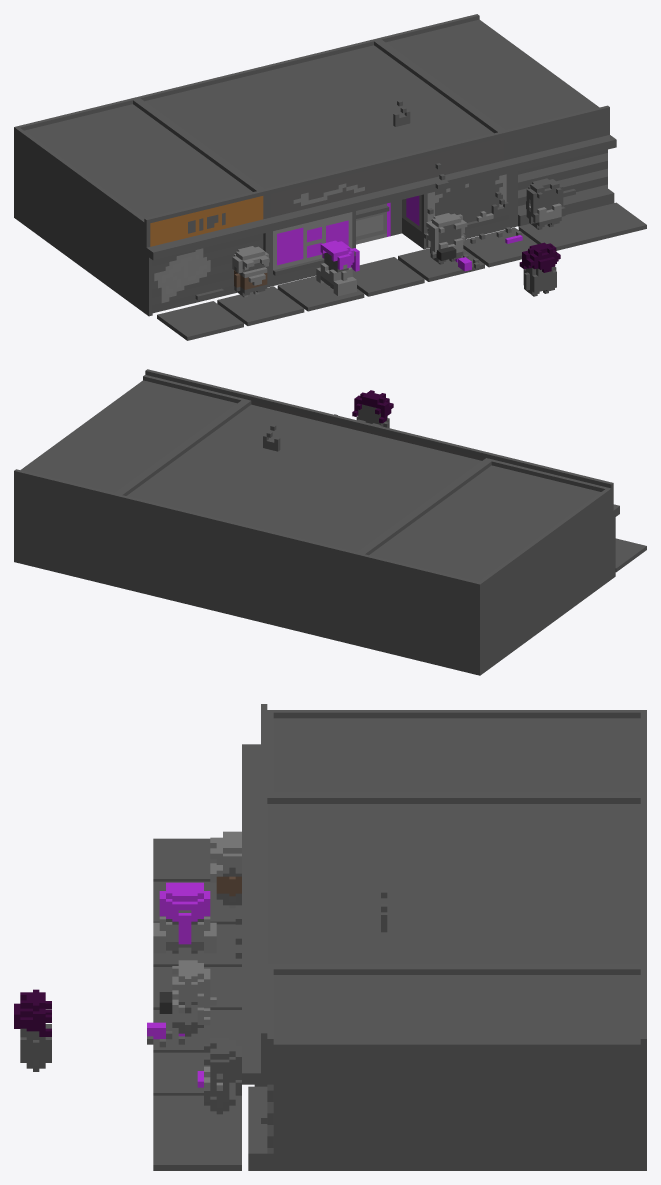
File: scene_riot.obj
The picture shows the model from 3 angles, top to bottom: view 1: azimuth 30°, elevation 25°; view 2: azimuth 150°, elevation 25°; view 3: azimuth 270°, elevation 25°; orthographic projection. The views are drawn at different scales.
Size of the model in its own units: 123 by 28 by 100.
